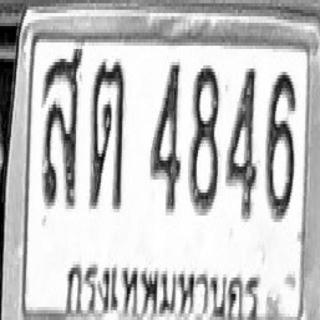A21: (88, 59, 125, 209)
A40: (42, 44, 83, 210)
N04: (225, 64, 257, 220), (149, 59, 181, 212)
N06: (265, 67, 295, 220)
N08: (188, 60, 219, 214)
P04: (58, 252, 262, 320)
